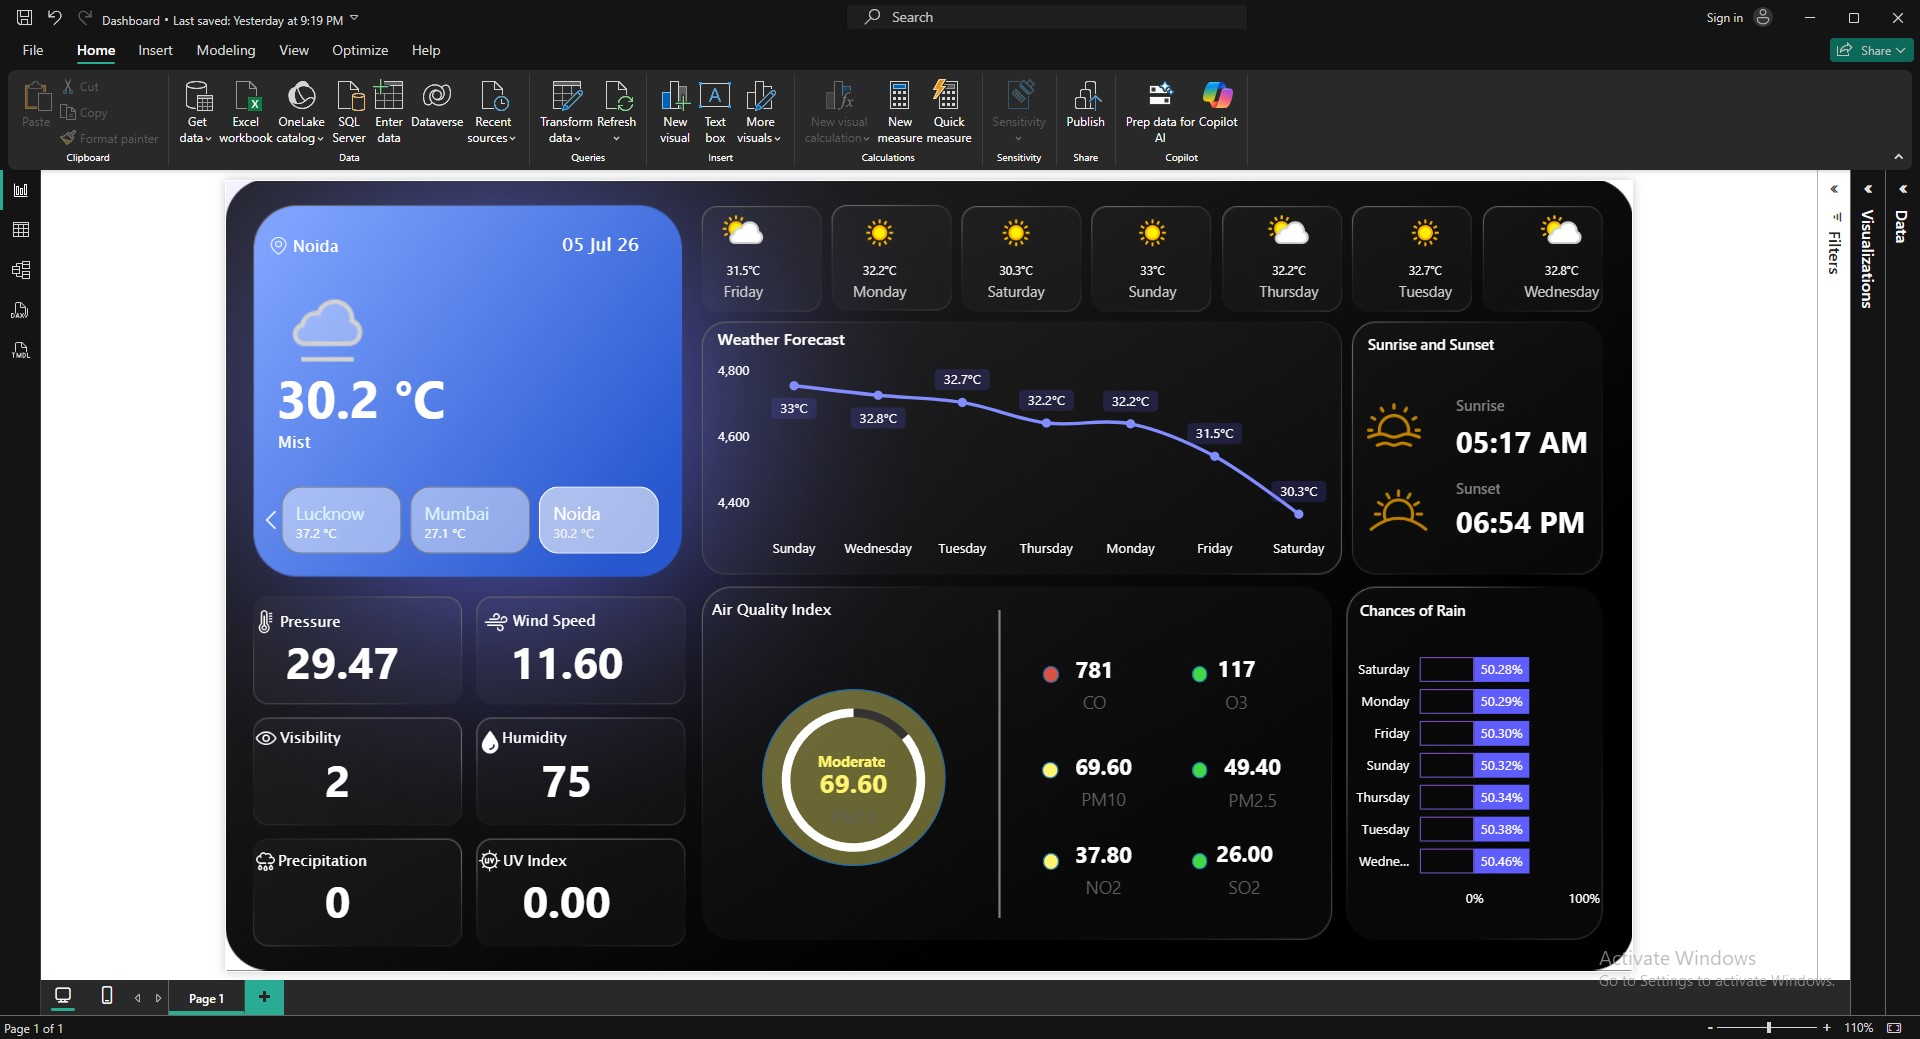

The dashboard page shown, as its layout file describes it:
{"tool":"powerbi","page":{"name":"Page 1","canvas":[1280,720],"ordinal":0},"visuals":[{"type":"shape","box":[488,463,167,161],"z":0},{"type":"advancedSlicerVisual","fields":{"Values":["Current.location.name"]},"box":[26,274,394,71],"z":1000},{"type":"shape","box":[47.5,150,193.8,93.8],"z":2000},{"type":"shape","box":[47.8,222.2,281.1,34.4],"z":3000},{"type":"shape","box":[306.7,42.2,85.6,35.6],"z":4000},{"type":"shape","box":[62.2,43.3,281.1,34.4],"z":5000},{"type":"image","box":[37.9,52.1,20.7,16.4],"z":6000},{"type":"cardVisual","fields":{"Data":["Min(Current.current.condition.icon)"]},"box":[37.8,0,110,185.6],"z":7000},{"type":"image","box":[26.4,390,21.4,23.6],"z":8000},{"type":"shape","box":[50,384.4,61.1,35.6],"z":9000},{"type":"image","box":[235,390,22.1,23.6],"z":10000},{"type":"image","box":[230,499,21.9,23.8],"z":11000},{"type":"image","box":[26.7,495.7,21.9,23.3],"z":12000},{"type":"image","box":[26.4,607.9,21.4,23.6],"z":13000},{"type":"image","box":[230,607.6,21.4,23.3],"z":14000},{"type":"shape","box":[261.5,383.8,90.8,35.4],"z":15000},{"type":"shape","box":[251.5,490,90.8,35.4],"z":16000},{"type":"shape","box":[50,490,60.8,35.4],"z":17000},{"type":"shape","box":[252.3,601.5,90.8,35.4],"z":18000},{"type":"shape","box":[48.5,601.5,83.1,35.4],"z":19000},{"type":"card","fields":{"Values":["Sum(Current.current.pressure_in)"]},"box":[38.2,408.9,136.8,57.5],"z":20000},{"type":"card","fields":{"Values":["Sum(Current.current.wind_mph)"]},"box":[246.2,408.8,128.8,57.5],"z":21000},{"type":"card","fields":{"Values":["Sum(Current.current.vis_miles)"]},"box":[38.2,516.4,128.6,57.9],"z":22000},{"type":"card","fields":{"Values":["Sum(Current.current.humidity)"]},"box":[246.1,516.4,128.6,57.9],"z":23000},{"type":"card","fields":{"Values":["Sum(Current.current.uv)"]},"box":[246.8,626.1,128.6,57.9],"z":24000},{"type":"card","fields":{"Values":["Sum(Current.current.precip_in)"]},"box":[38.6,626.1,128.6,57.9],"z":25000},{"type":"advancedSlicerVisual","fields":{"Values":["Forecast_Day.Day_Name"]},"box":[408.2,20,856.4,115.5],"z":26000},{"type":"lineChart","title":"Weather Forecast","fields":{"Category":["Forecast_Day.Day_Name"],"Y":["Sum(Forecast_Day.forecast.forecastday.day.avgtemp_c)"]},"box":[442.7,133.6,569.1,219.1],"z":27000},{"type":"shape","box":[1038.8,131.2,160,36.2],"z":28000},{"type":"shape","box":[1118.8,216.2,125,41.2],"z":29000},{"type":"shape","box":[1118.8,290,122.5,40],"z":30000},{"type":"shape","box":[1118.8,187.5,161.2,35],"z":31000},{"type":"shape","box":[1118.9,262.6,161.1,34.7],"z":32000},{"type":"image","box":[1038.2,187.3,49.1,71.8],"z":33000},{"type":"image","box":[1032,259.5,69.5,82],"z":34000},{"type":"hundredPercentStackedBarChart","title":"Chances of Rain","fields":{"Category":["Forecast_Day.Day_Name"],"Y":["Sum(Forecast_Day.forecast.forecastday.day.daily_chance_of_rain)","_Measures.Left_value_Rainn"]},"box":[1011.8,409,243.4,262.5],"z":35000},{"type":"shape","box":[442.5,373.8,128.8,35],"z":36000},{"type":"card","fields":{"Values":["Sum(Current.current.air_quality.co)"]},"box":[750,423.6,80.9,66.4],"z":37000},{"type":"card","fields":{"Values":["Sum(Current.current.air_quality.o3)"]},"box":[879,424,81,66],"z":38000},{"type":"card","fields":{"Values":["Sum(Current.current.air_quality.pm10)"]},"box":[758.2,511.8,80.9,66.4],"z":39000},{"type":"card","fields":{"Values":["Sum(Current.current.air_quality.no2)"]},"box":[758.2,591.8,80.9,66.4],"z":40000},{"type":"card","fields":{"Values":["Sum(Current.current.air_quality.pm2_5)"]},"box":[894,512,81,67],"z":41000},{"type":"card","fields":{"Values":["Sum(Current.current.air_quality.so2)"]},"box":[886,592,81,66],"z":42000},{"type":"shape","box":[742.5,529.2,15,15],"z":43000},{"type":"shape","box":[743.6,441.8,14.5,15.5],"z":44000},{"type":"shape","box":[743.6,611.8,14.5,15.5],"z":45000},{"type":"shape","box":[879,529,14,15],"z":46000},{"type":"shape","box":[879,612,14,15],"z":47000},{"type":"shape","box":[879,442,14,15],"z":48000},{"type":"shape","box":[629,391,150,280],"z":49000},{"type":"card","fields":{"Values":["Sum(Current.current.air_quality.pm10)"]},"box":[531,526,81,66],"z":50000},{"type":"donutChart","fields":{"Y":["Sum(Current.current.air_quality.pm10)","_Measures.Left_value_PM10"]},"box":[462,459,219,173],"z":51000},{"type":"shape","box":[539,517,73,20],"z":52000},{"type":"shape","box":[1032.1,374.1,113.8,34.9],"z":52001}]}

Visuals, with their boxes on the page's 1280x720 design canvas (x1, y1, x2, y2). These are canvas units, not pixel positions in the 1920x1039 screenshot, which may show the page scaled, cropped or inside an application window:
shape: 488 463 655 624
advancedSlicerVisual - Current.location.name: 26 274 420 345
shape: 48 150 241 244
shape: 48 222 329 257
shape: 307 42 392 78
shape: 62 43 343 78
image: 38 52 59 68
cardVisual - Min(Current.current.condition.icon): 38 0 148 186
image: 26 390 48 414
shape: 50 384 111 420
image: 235 390 257 414
image: 230 499 252 523
image: 27 496 49 519
image: 26 608 48 632
image: 230 608 251 631
shape: 262 384 352 419
shape: 252 490 342 525
shape: 50 490 111 525
shape: 252 602 343 637
shape: 48 602 132 637
card - Sum(Current.current.pressure_in): 38 409 175 466
card - Sum(Current.current.wind_mph): 246 409 375 466
card - Sum(Current.current.vis_miles): 38 516 167 574
card - Sum(Current.current.humidity): 246 516 375 574
card - Sum(Current.current.uv): 247 626 375 684
card - Sum(Current.current.precip_in): 39 626 167 684
advancedSlicerVisual - Forecast_Day.Day_Name: 408 20 1265 136
"Weather Forecast" lineChart: 443 134 1012 353
shape: 1039 131 1199 167
shape: 1119 216 1244 257
shape: 1119 290 1241 330
shape: 1119 188 1280 222
shape: 1119 263 1280 297
image: 1038 187 1087 259
image: 1032 260 1102 342
"Chances of Rain" hundredPercentStackedBarChart: 1012 409 1255 672
shape: 442 374 571 409
card - Sum(Current.current.air_quality.co): 750 424 831 490
card - Sum(Current.current.air_quality.o3): 879 424 960 490
card - Sum(Current.current.air_quality.pm10): 758 512 839 578
card - Sum(Current.current.air_quality.no2): 758 592 839 658
card - Sum(Current.current.air_quality.pm2_5): 894 512 975 579
card - Sum(Current.current.air_quality.so2): 886 592 967 658
shape: 742 529 758 544
shape: 744 442 758 457
shape: 744 612 758 627
shape: 879 529 893 544
shape: 879 612 893 627
shape: 879 442 893 457
shape: 629 391 779 671
card - Sum(Current.current.air_quality.pm10): 531 526 612 592
donutChart - Sum(Current.current.air_quality.pm10) x _Measures.Left_value_PM10: 462 459 681 632
shape: 539 517 612 537
shape: 1032 374 1146 409
